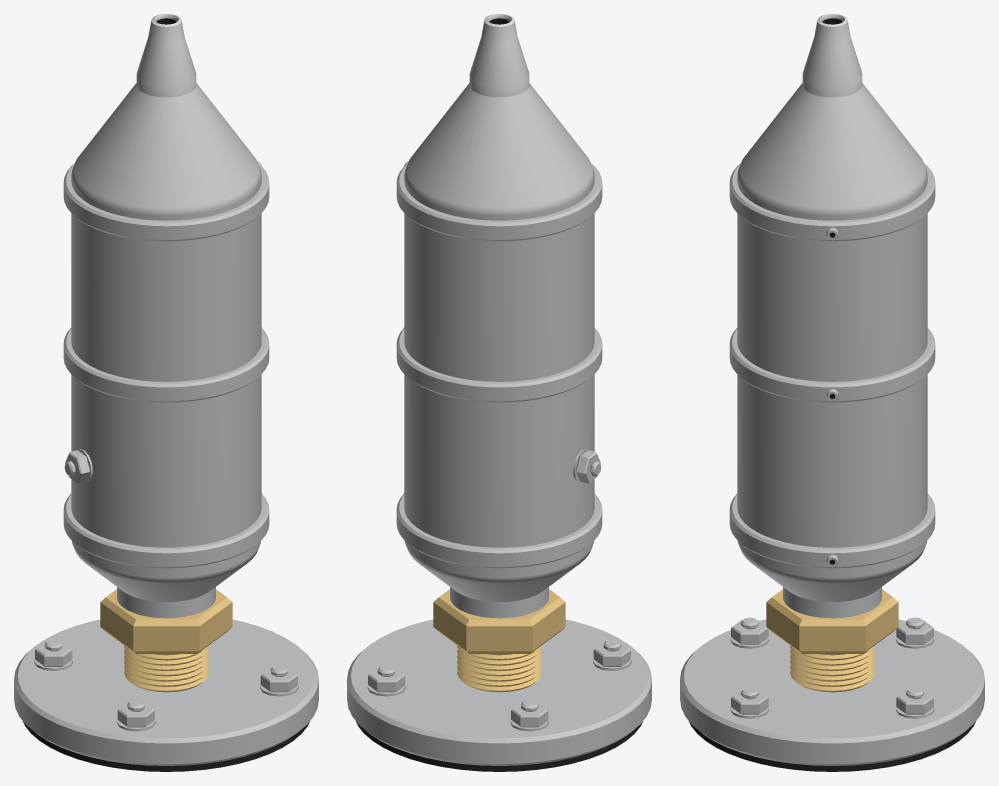
The model's file is nozzle_laminar_dn25.glb.
3 renders of one model, left to right at view 1: azimuth 30°, elevation 25°; view 2: azimuth 150°, elevation 25°; view 3: azimuth 270°, elevation 25°, orthographic.
Visible parts, largest first — view 1: Nozzle_Body; view 2: Nozzle_Body; view 3: Nozzle_Body.
Boxes of the visible parts, x1,y1,x2,y2 form: Nozzle_Body: (14, 14, 318, 771); Nozzle_Body: (347, 14, 651, 771); Nozzle_Body: (680, 14, 984, 771).
Bounding box in the file's own units: 0.12 × 0.3 × 0.12.
